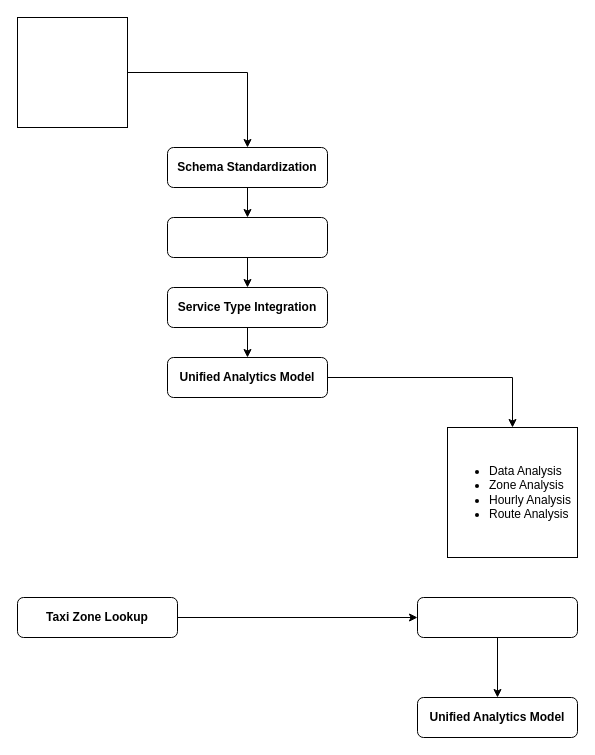
Image size: 595x755. Some labels were removed from this diagram. Here are the shapes that lost their labels. From the top down, the centre of each, then its label:
At [72,72]: "SOURCE (Parquet) Yellow Taxi Green Taxi FHV FHVHV".
At [247,237]: "Common trip Structure".
At [497,617]: "location Enrichment".
